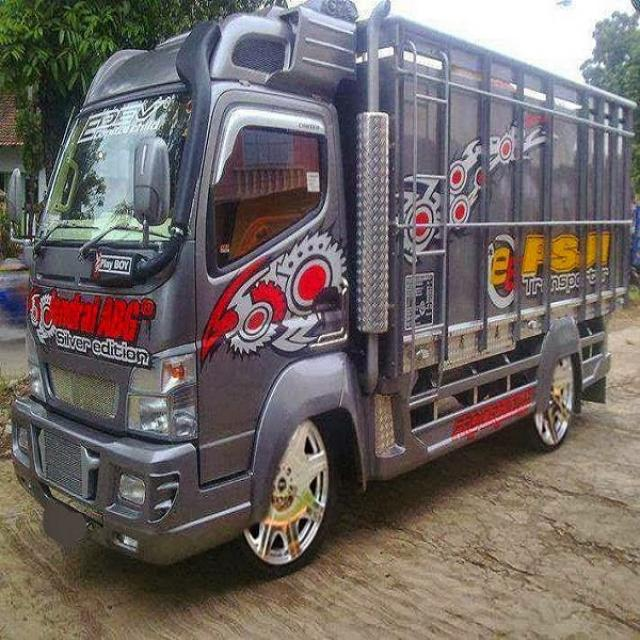truck: (0, 0, 639, 583)
